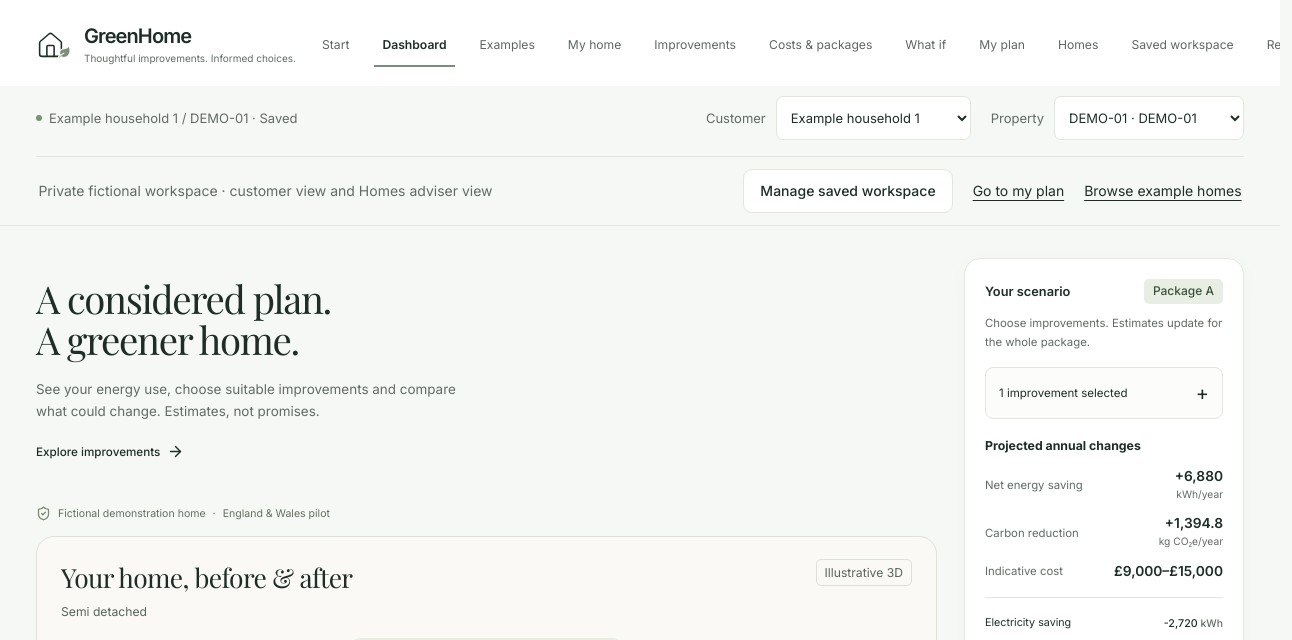
Scenario: private fictional workspace journey › deletes only after confirmation and never implicitly recreates the workspace
Expected: the heading "A considered plan.A greener home." is shown, top-left (36, 272), bottom-right (331, 366)
Expected: the dropdown labelled "Customer" is enabled, top-left (776, 96), bottom-right (971, 140)
Click the link "Saved workspace" at (1183, 44), box top-left (1131, 36), bottom-right (1234, 52)
(page scrolled)
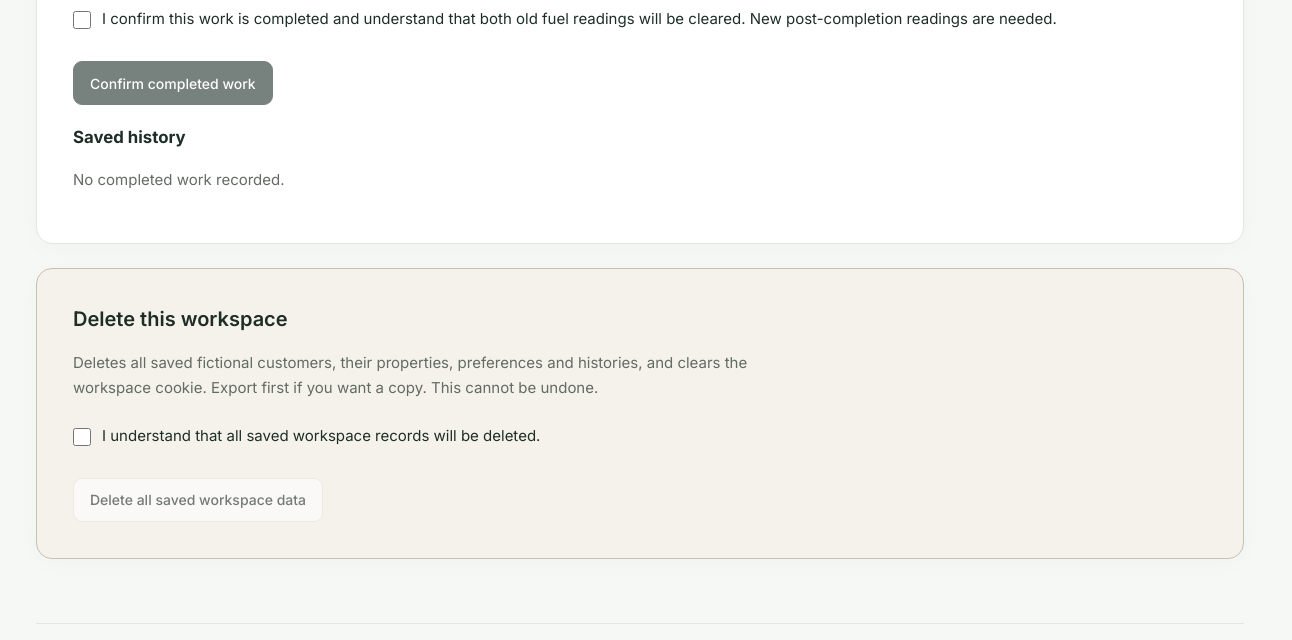
Now the button "Delete all saved workspace data" is disabled, box top-left (73, 478), bottom-right (323, 522)
Click the checkbox labelled "all saved workspace records will be deleted" at (82, 437), box top-left (73, 428), bottom-right (91, 446)
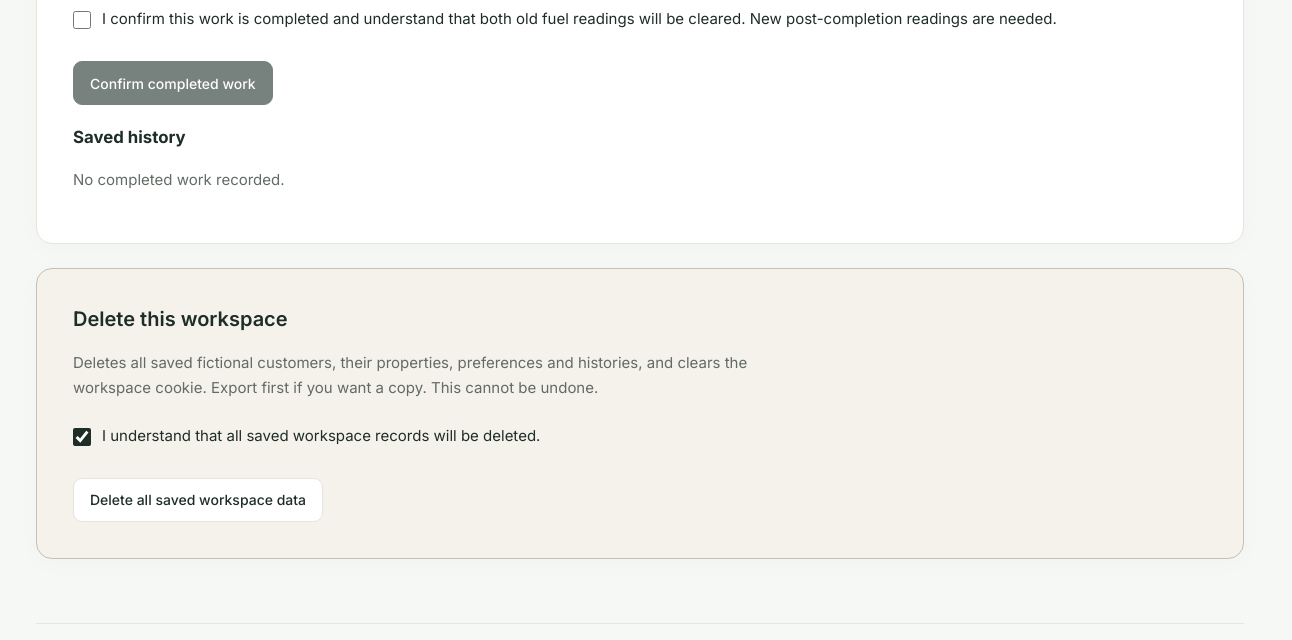
Click the button "Delete all saved workspace data" at (198, 500), box top-left (73, 478), bottom-right (323, 522)
(page scrolled)
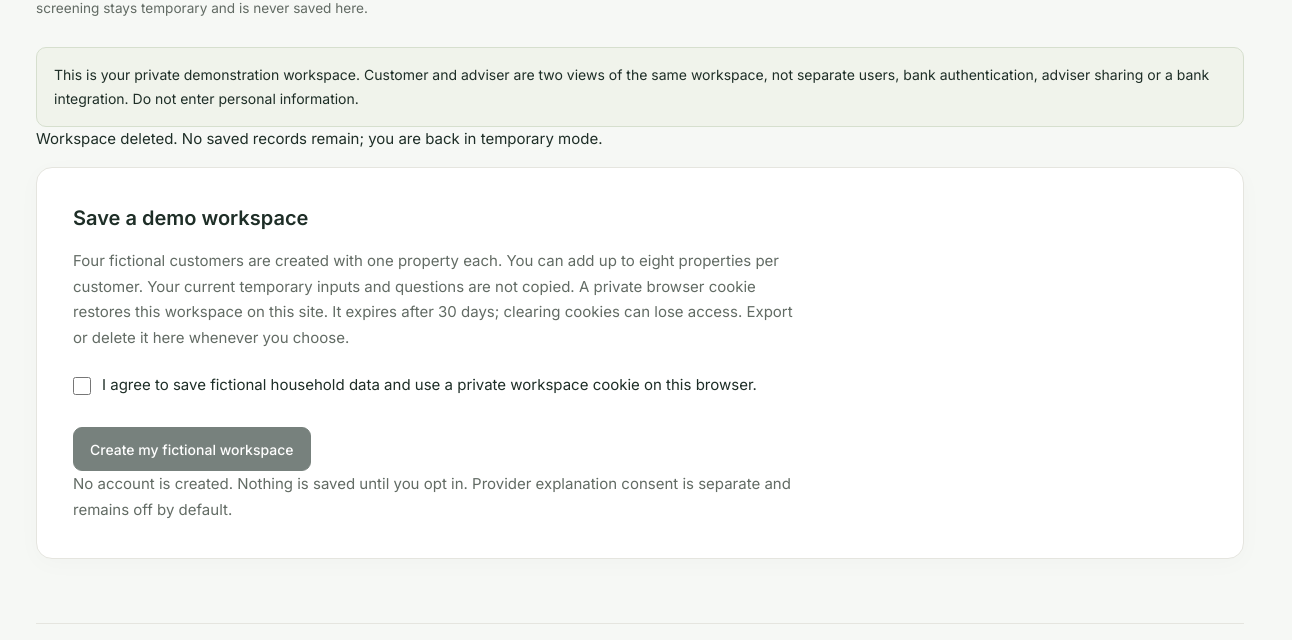
Now the button "Create my fictional workspace" is disabled, box top-left (73, 427), bottom-right (310, 471)
